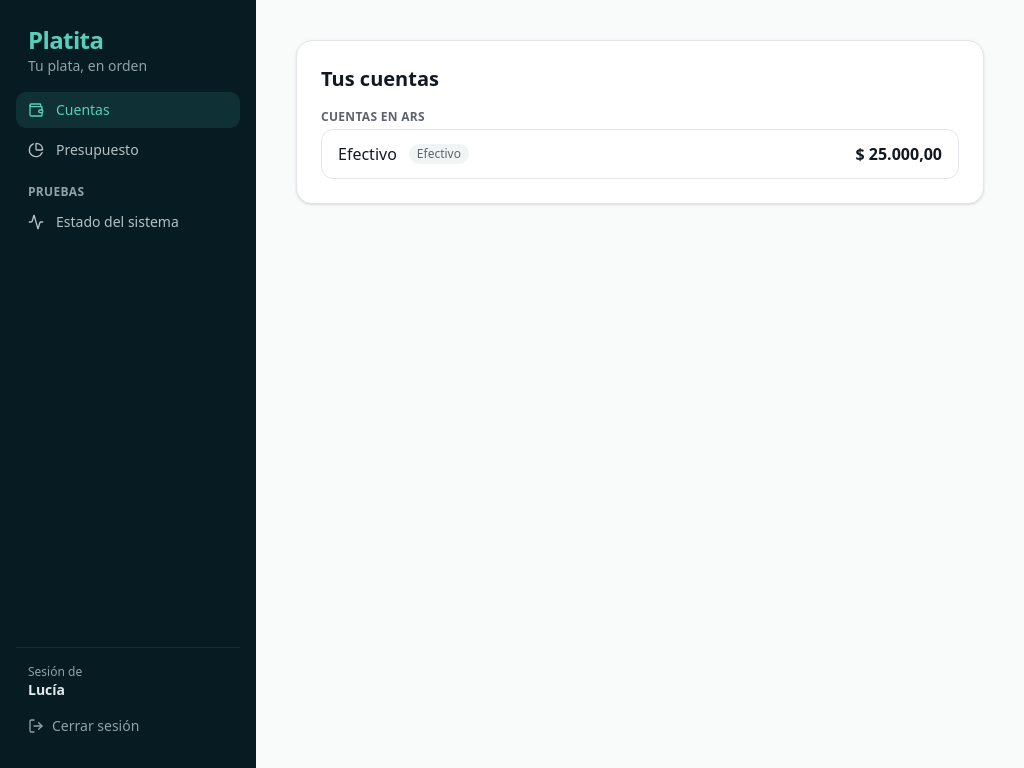
case C1-38: the menu leads to the budget screen
Expected: the heading "Tus cuentas" is shown, [321,65,439,92]
Click the button "Presupuesto": (128, 150) [16,132,240,168]
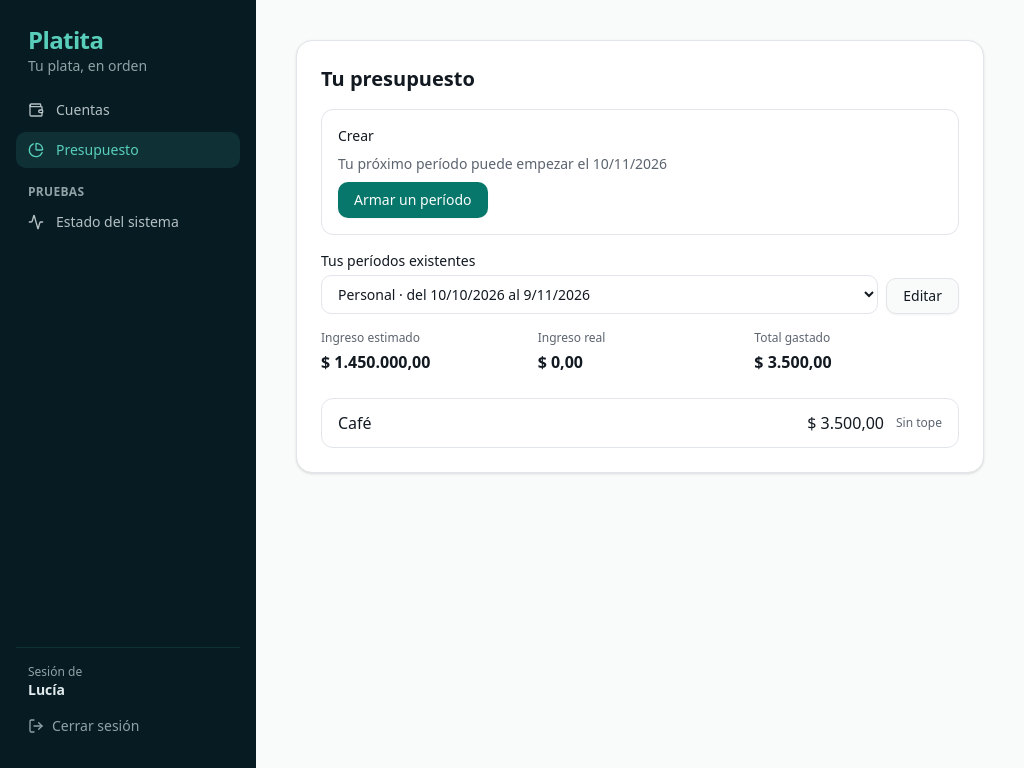
Expected: the heading "Tu presupuesto" is shown, [321,65,475,92]
Expected: the heading "Tus cuentas" is gone
